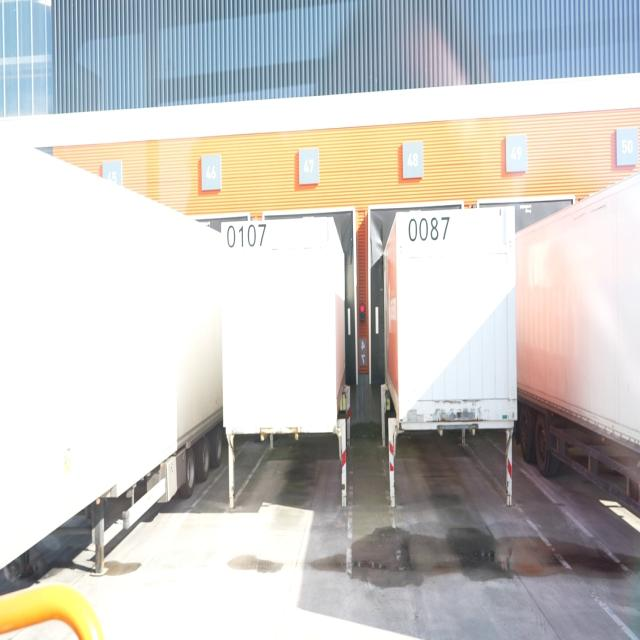Code: (406, 211, 453, 247), (224, 220, 270, 252)
